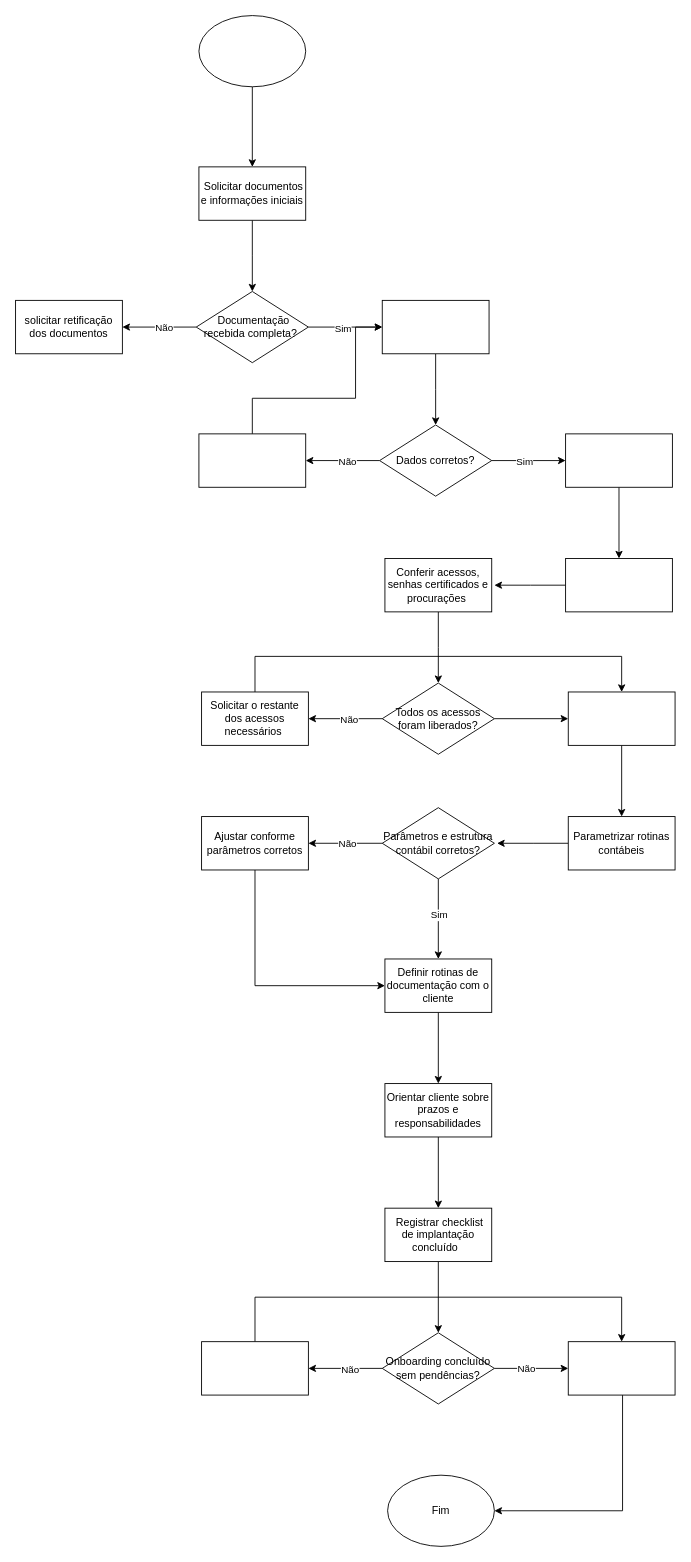
This 691x1562 diagram has some shape labels left out. Here are the shapes that lost their labels. From the top down, the centre of each, then its label:
At (252,51): "Inicio".
At (435,326): "Conferir dados cadastrais e societários da empresa".
At (252,460): "Solicitar retificação".
At (618,460): "Identificar estrutura cantabil da empresa".
At (618,585): "Levantar obrigações contábeis aplicáveis".
At (621,718): "configurar empresa nos sistemas internos".
At (254,1368): "Identificar e regularizar pendencias".
At (621,1368): "Liberar cliente para rotina contabil mensal".
